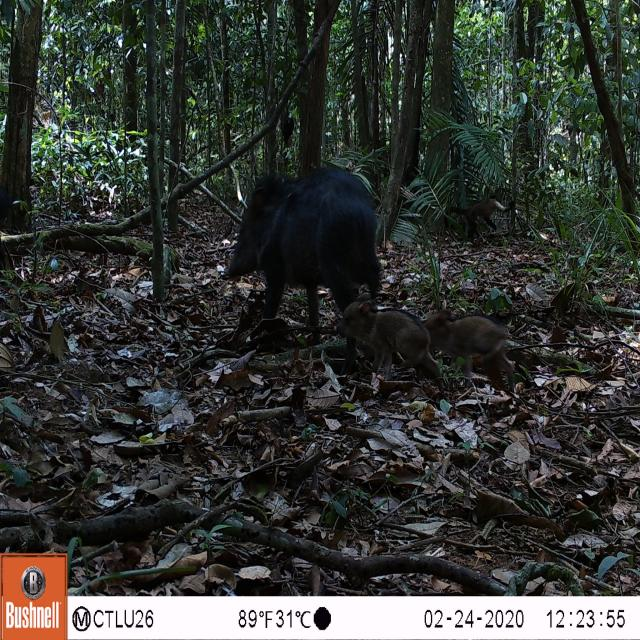Margarita Island Capuchin: (452, 192, 516, 242)
